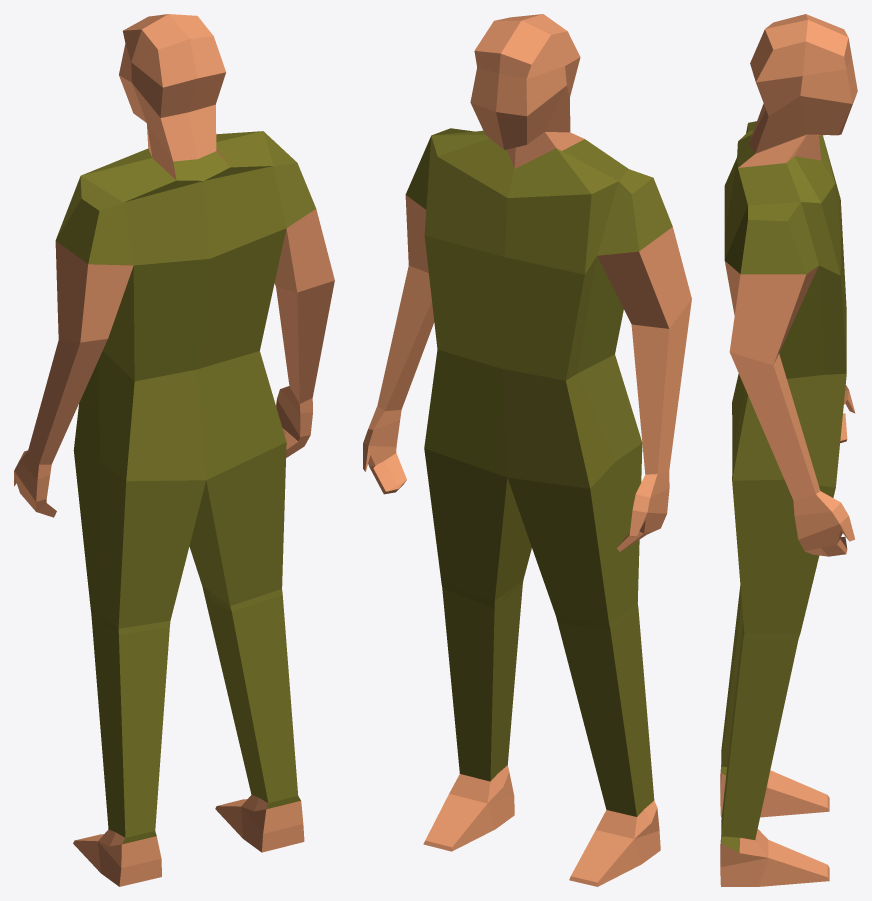
The model's file is firstBlend.obj.
The picture shows the model from 3 angles, left to right: view 1: azimuth 30°, elevation 25°; view 2: azimuth 150°, elevation 25°; view 3: azimuth 270°, elevation 25°; orthographic projection. The views are drawn at different scales.
Visible parts, largest first — view 1: Cube; view 2: Cube; view 3: Cube.
Boxes of the visible parts, x1=… form: Cube: x1=14, y1=14, x2=334, y2=886; Cube: x1=363, y1=14, x2=691, y2=886; Cube: x1=720, y1=14, x2=857, y2=886.
Size of the model in its own units: 0.6374 by 1.8 by 0.2728.
